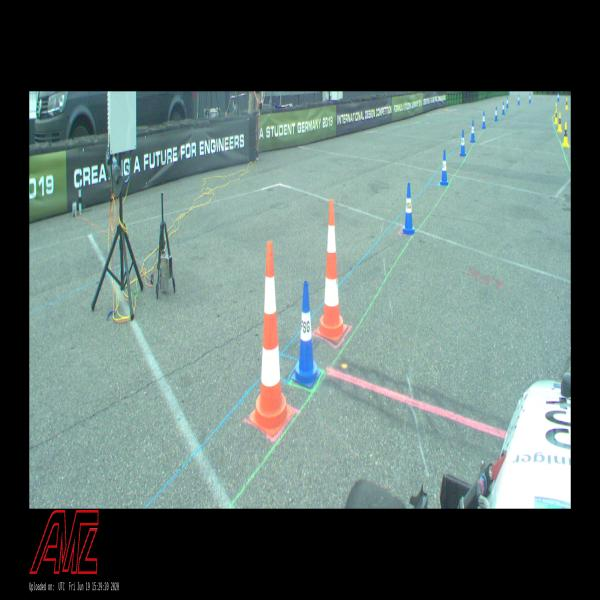blue_cone: (292, 280, 321, 388), (401, 182, 416, 236), (440, 150, 449, 186), (460, 130, 466, 156), (470, 120, 476, 143), (482, 112, 486, 128), (494, 106, 497, 122), (502, 102, 505, 115), (506, 97, 509, 108), (517, 94, 520, 105), (529, 93, 531, 103), (557, 91, 559, 101)
large_orange_cone: (250, 241, 292, 436), (316, 199, 347, 341)
yellow_cone: (562, 122, 569, 147), (557, 113, 563, 132), (554, 108, 558, 124), (554, 103, 558, 117), (566, 98, 568, 109)
